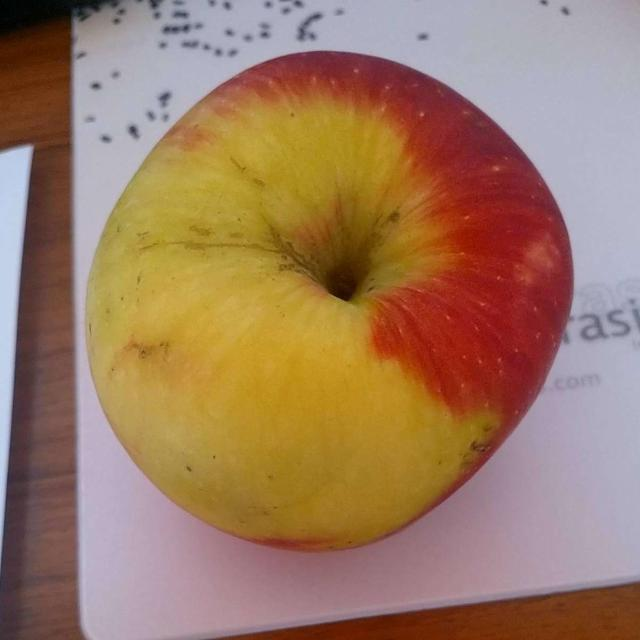apple: (90, 58, 564, 538)
